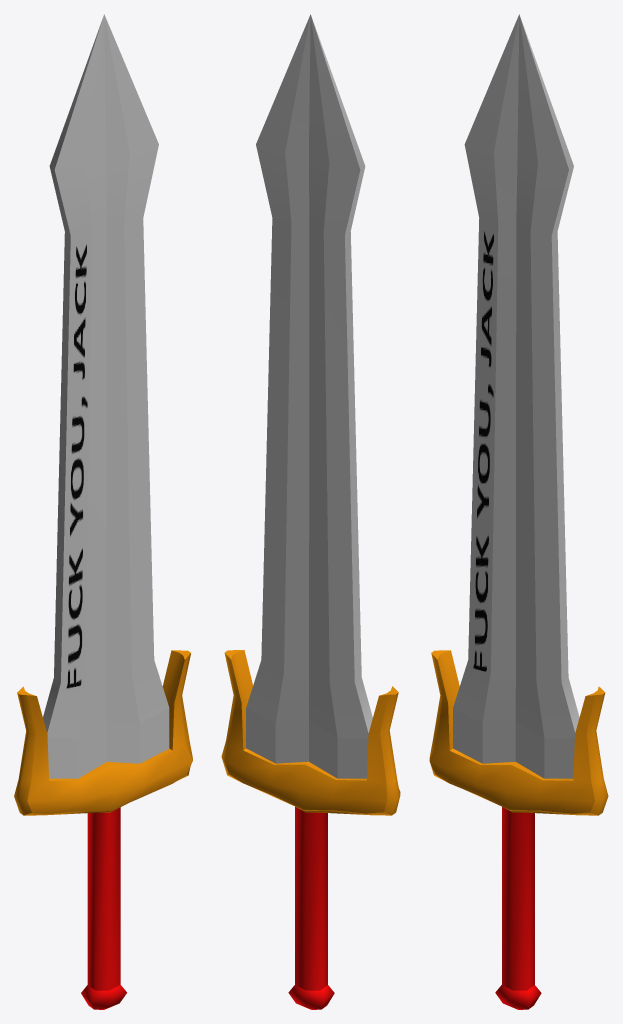
File: Sword.fbx
3 views of the same model, side by side, from view 1: azimuth 30°, elevation 25°; view 2: azimuth 150°, elevation 25°; view 3: azimuth 330°, elevation 25° (orthographic).
Visible parts, largest first — view 1: GreatSword; view 2: GreatSword; view 3: GreatSword.
Boxes of the visible parts, x1,y1,x2,y2 form: GreatSword: [14, 14, 192, 1009]; GreatSword: [221, 14, 400, 1009]; GreatSword: [429, 14, 608, 1009].
Bounding box in the file's own units: 1.74 × 9.43 × 0.4104.
